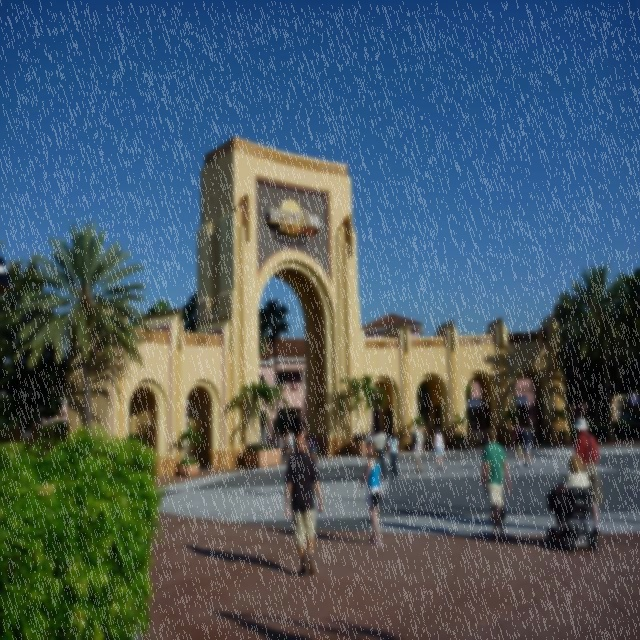pessoa: (282, 432, 326, 578), (182, 544, 300, 584), (571, 417, 604, 536), (483, 427, 511, 543), (551, 454, 592, 528), (360, 438, 384, 548), (480, 428, 505, 522), (410, 423, 426, 474), (386, 428, 401, 480), (373, 428, 387, 480), (432, 427, 446, 472), (512, 421, 524, 468), (520, 423, 532, 467), (310, 432, 318, 464), (284, 432, 292, 458), (380, 431, 388, 453), (288, 429, 294, 457), (274, 430, 282, 449), (358, 516, 373, 526), (364, 430, 374, 444), (304, 434, 310, 454), (280, 433, 284, 458), (286, 428, 290, 436)
